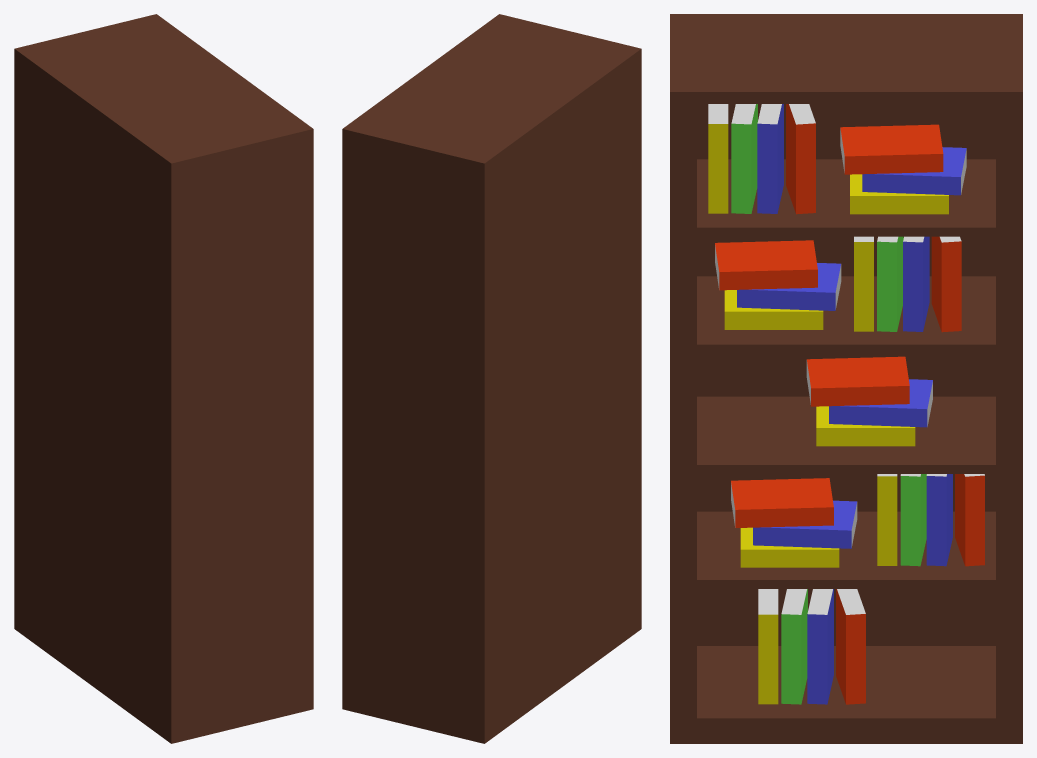
File: 3DLink_Text.glb
The picture shows the model from 3 angles, left to right: view 1: azimuth 30°, elevation 25°; view 2: azimuth 150°, elevation 25°; view 3: azimuth 270°, elevation 25°; orthographic projection. The views are drawn at different scales.
Visible parts, largest first — view 1: Spot_Text.009; view 2: Spot_Text.009; view 3: Spot_Text.009, Cube.230, Cube.236, Cube.233, Cube.239, Cube.227, Cube.215, Cube.225, Cube.226, Cube.213, Cube.214, Cube.219 (+17 smaller).
Boxes of the visible parts, x1=… form: Spot_Text.009: x1=14, y1=14, x2=313, y2=743; Spot_Text.009: x1=342, y1=14, x2=641, y2=743; Spot_Text.009: x1=670, y1=14, x2=1022, y2=743; Cube.230: x1=840, y1=124, x2=943, y2=174; Cube.236: x1=806, y1=356, x2=909, y2=406; Cube.233: x1=715, y1=240, x2=817, y2=290; Cube.239: x1=731, y1=478, x2=833, y2=527; Cube.227: x1=836, y1=589, x2=865, y2=704; Cube.215: x1=786, y1=104, x2=815, y2=214; Cube.225: x1=781, y1=589, x2=807, y2=704; Cube.226: x1=807, y1=589, x2=833, y2=704; Cube.213: x1=731, y1=104, x2=757, y2=213; Cube.214: x1=757, y1=104, x2=783, y2=213; Cube.219: x1=931, y1=236, x2=961, y2=332.
Bounding box in the file's own units: 0.5913 × 2.31 × 1.13.
